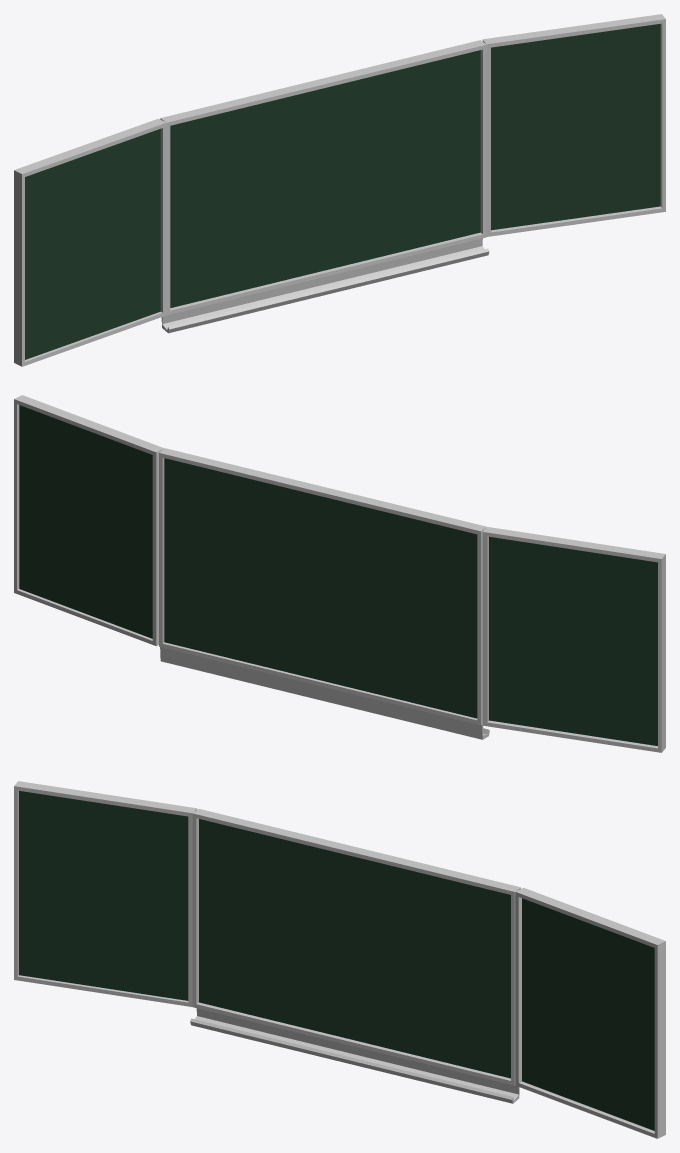
The model's file is blackboard.gltf.
3 renders of one model, top to bottom at view 1: azimuth 30°, elevation 25°; view 2: azimuth 150°, elevation 25°; view 3: azimuth 330°, elevation 25°, orthographic.
Parts seen in each view (by area): view 1: bord, zijbord_rechts, zijbord_rechts.001, rand.001, rand, zijbord_rechts_rand.001, zijbord_rechts_rand; view 2: bord, zijbord_rechts.001, zijbord_rechts, rand, rand.001, zijbord_rechts_rand.001, zijbord_rechts_rand; view 3: bord, zijbord_rechts.001, zijbord_rechts, rand, rand.001, zijbord_rechts_rand, zijbord_rechts_rand.001.
Part boxes in pixels (<box>): bord: <box>170,50,480,307</box>; zijbord_rechts: <box>491,23,660,230</box>; zijbord_rechts.001: <box>25,129,160,359</box>; rand.001: <box>161,42,489,333</box>; rand: <box>160,40,486,315</box>; zijbord_rechts_rand.001: <box>14,118,166,366</box>; zijbord_rechts_rand: <box>482,14,665,236</box>; bord: <box>164,458,477,718</box>; zijbord_rechts.001: <box>489,536,657,745</box>; zijbord_rechts: <box>19,405,152,638</box>; rand: <box>159,448,486,724</box>; rand.001: <box>160,449,489,739</box>; zijbord_rechts_rand.001: <box>482,527,665,752</box>; zijbord_rechts_rand: <box>14,395,164,646</box>; bord: <box>199,819,510,1078</box>; zijbord_rechts.001: <box>19,791,188,1000</box>; zijbord_rechts: <box>522,898,654,1130</box>; rand: <box>192,809,520,1085</box>; rand.001: <box>190,809,519,1103</box>; zijbord_rechts_rand: <box>515,887,665,1138</box>; zijbord_rechts_rand.001: <box>14,781,197,1006</box>.
Size of the model in its own units: 8.26 by 2.56 by 0.5579.
